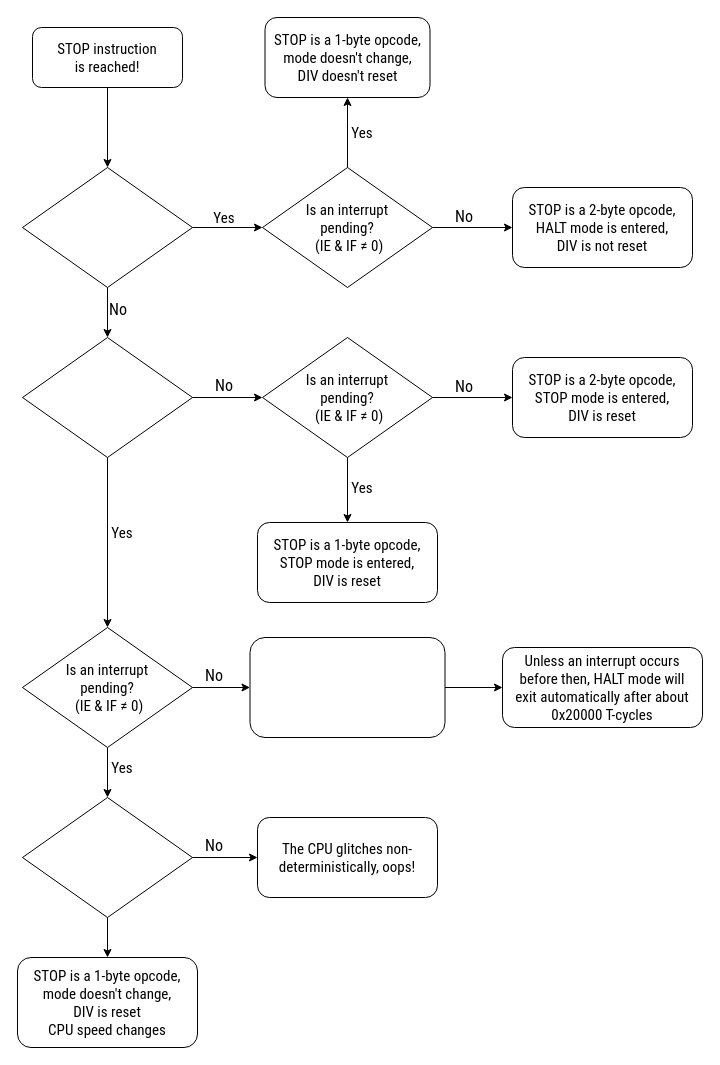
Some shapes in this 720 by 1065 pixel diagram are drawn without their labels. Each missing label, with the centre of its shape:
Is a button being held and selected in JOYP?: the point at 107,227
Is IME enabled?: the point at 107,857
STOP is a 2-byte opcode, HALT mode is entered, DIV is reset, CPU speed changes: the point at 347,687
Was a speed switch requested via KEY1?: the point at 107,397
